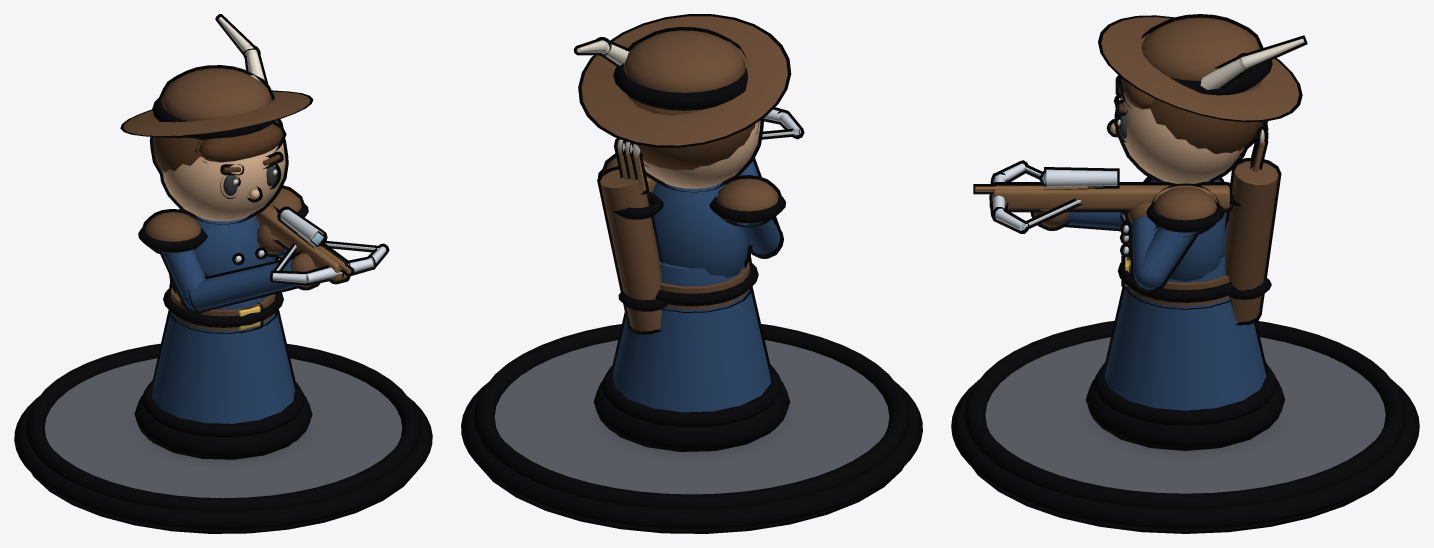
Rendered from marksman_s2.fbx.
The picture shows the model from 3 angles, left to right: view 1: azimuth 30°, elevation 25°; view 2: azimuth 150°, elevation 25°; view 3: azimuth 270°, elevation 25°; orthographic projection. The views are drawn at different scales.
Parts seen in each view (by area): view 1: marksman_s2; view 2: marksman_s2; view 3: marksman_s2.
Boxes of the visible parts, box(x1,y1,x2,y2) form: marksman_s2: box(14, 14, 432, 533); marksman_s2: box(461, 14, 922, 533); marksman_s2: box(951, 14, 1419, 533).
Bounding box in the file's own units: 1.58 × 1.61 × 1.58.
Materials: 2 (1 with a texture image).
